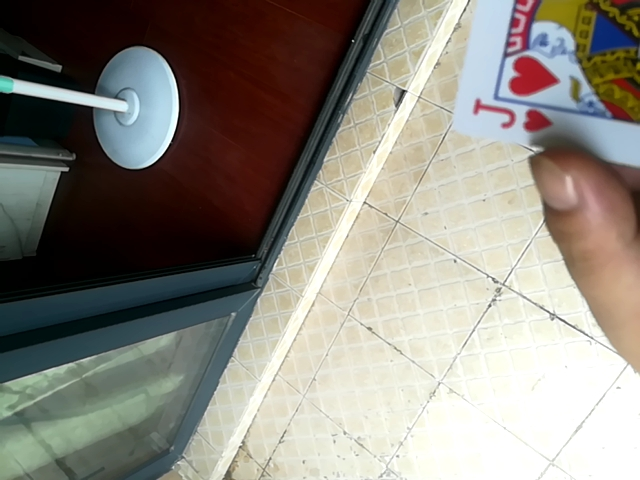hx j: (447, 0, 631, 187)
